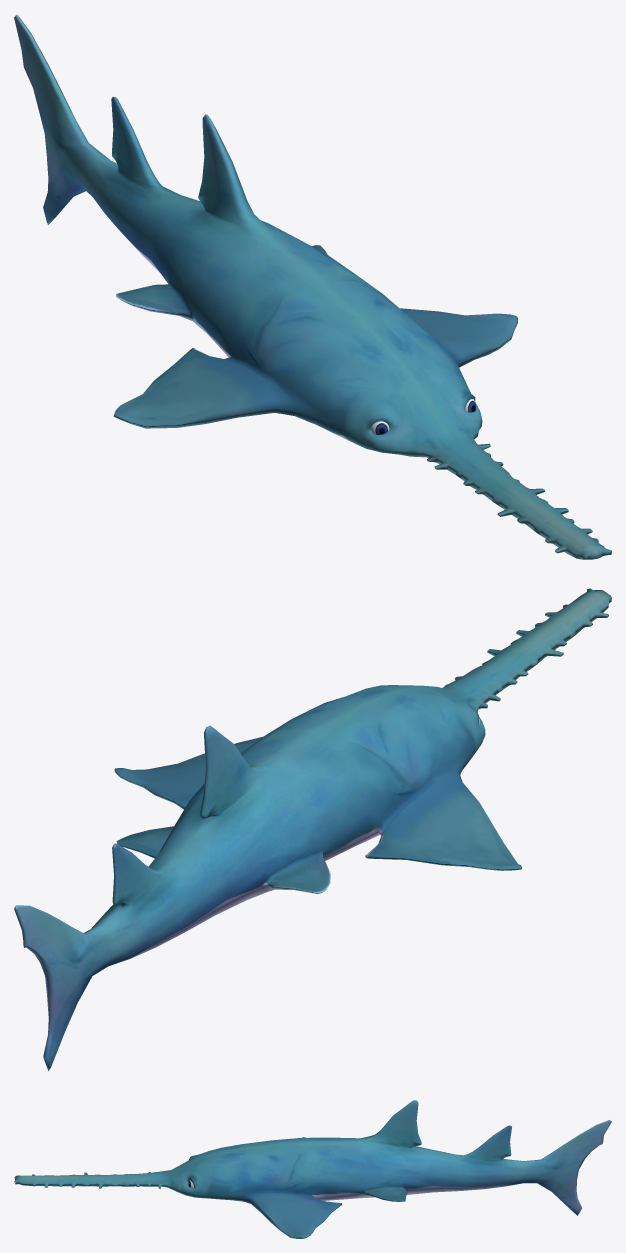
The model's file is fish_7.fbx.
The picture shows the model from 3 angles, top to bottom: view 1: azimuth 30°, elevation 25°; view 2: azimuth 150°, elevation 25°; view 3: azimuth 270°, elevation 25°; orthographic projection. The views are drawn at different scales.
Parts seen in each view (by area): view 1: node_id208; view 2: node_id208; view 3: node_id208.
Part boxes in pixels (x1,y1,x2,y2): node_id208: (14, 14, 611, 559); node_id208: (14, 588, 611, 1071); node_id208: (14, 1100, 611, 1238).
Bounding box in the file's own units: 0.512 × 0.274 × 1.28.
Materials: 1 (1 with a texture image).
